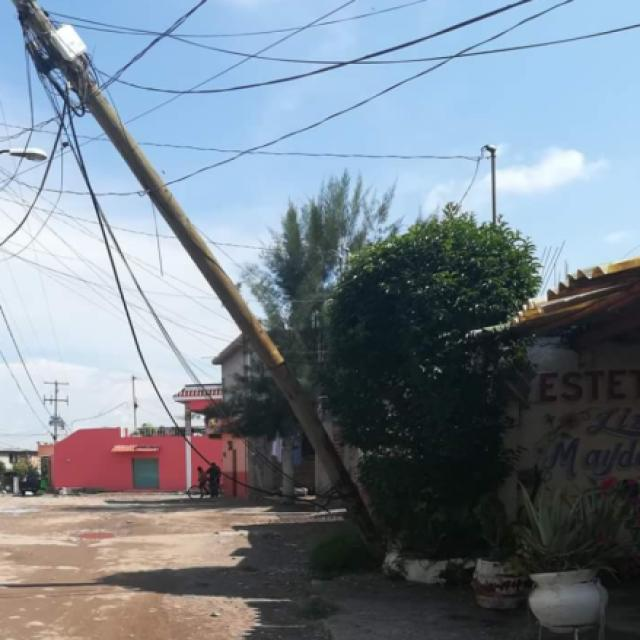Inclined Pole: (15, 0, 390, 559)
